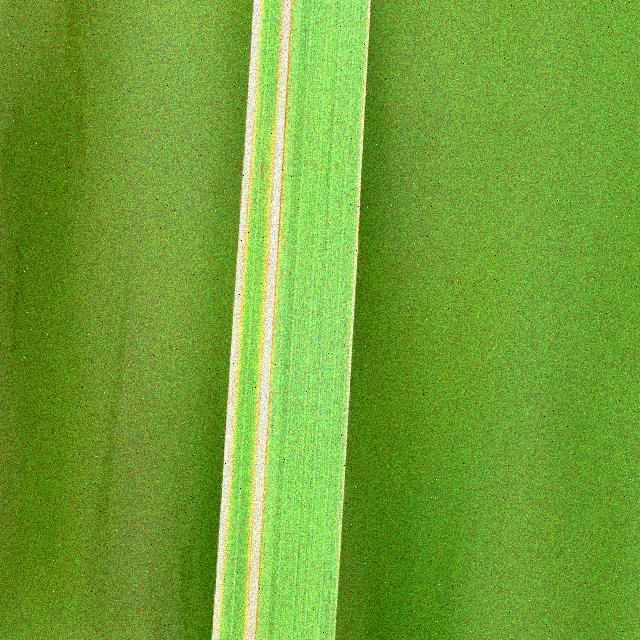BLB: (212, 0, 263, 640), (244, 0, 293, 640)
